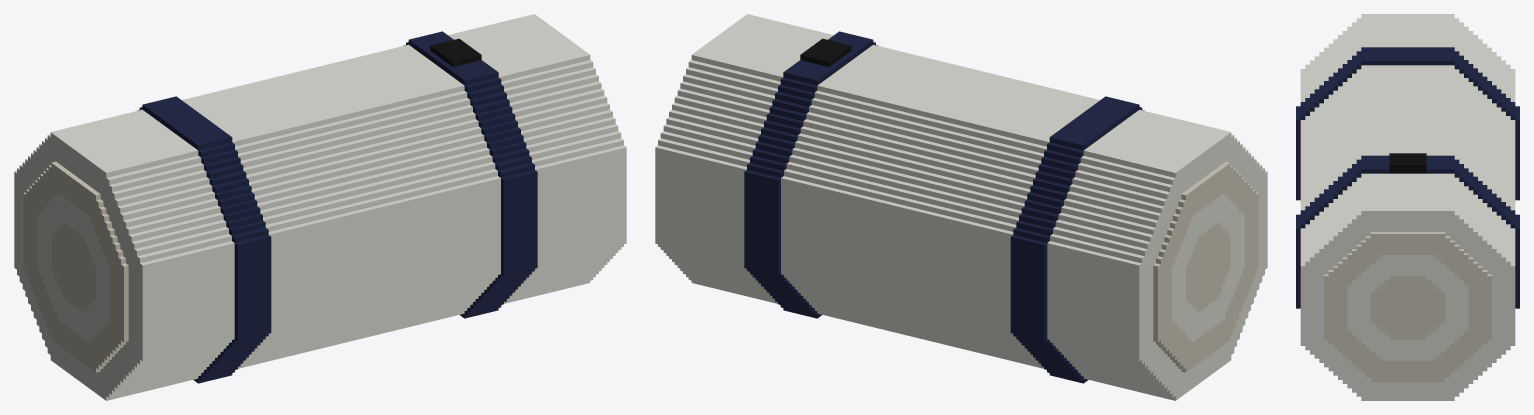
The model's file is down_pillow.glb.
3 views of the same model, side by side, from view 1: azimuth 30°, elevation 25°; view 2: azimuth 150°, elevation 25°; view 3: azimuth 270°, elevation 25° (orthographic). The views are drawn at different scales.
Parts seen in each view (by area): view 1: down_pillow:compound; view 2: down_pillow:compound; view 3: down_pillow:compound.
Part boxes in pixels (box(x1,y1,x2,y2)): down_pillow:compound: box(14, 14, 626, 400); down_pillow:compound: box(655, 14, 1267, 400); down_pillow:compound: box(1296, 14, 1519, 400).
Size of the model in its own units: 0.408 by 0.192 by 0.192.
